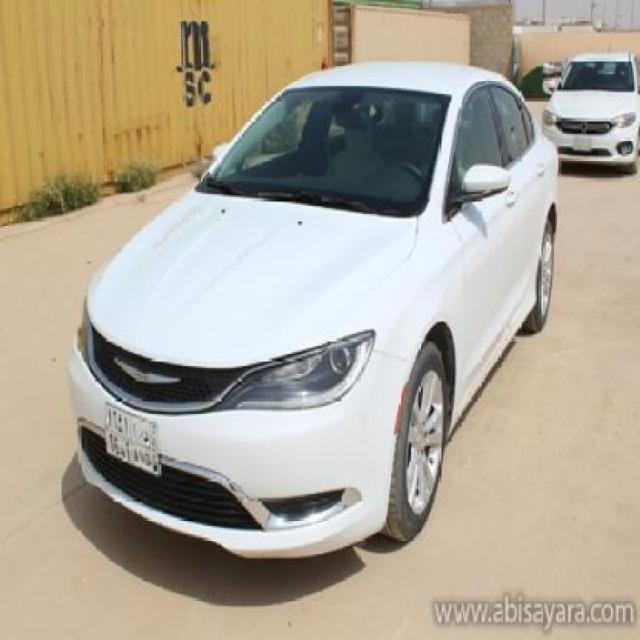license_plate: (103, 398, 162, 478)
